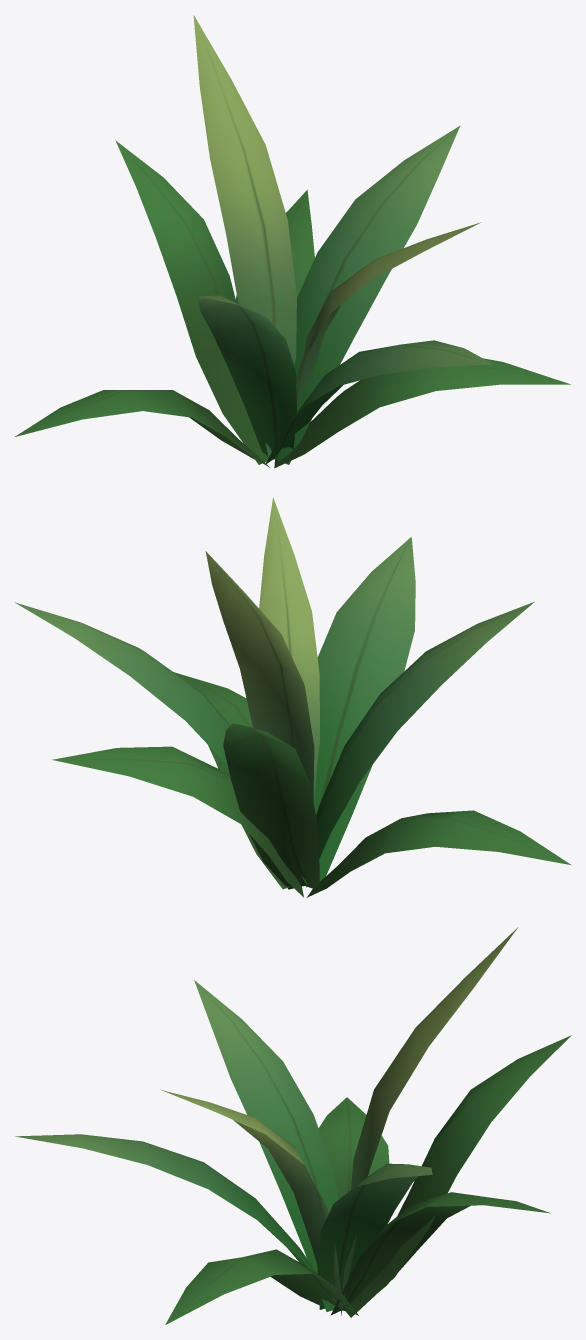
File: Plant_002_Mesh_001.fbx
3 views of the same model, one above another, from view 1: azimuth 30°, elevation 25°; view 2: azimuth 150°, elevation 25°; view 3: azimuth 270°, elevation 25° (orthographic). The views are drawn at different scales.
Parts seen in each view (by area): view 1: Plant_002_Mesh_001; view 2: Plant_002_Mesh_001; view 3: Plant_002_Mesh_001.
Boxes of the visible parts, x1,y1,x2,y2 form: Plant_002_Mesh_001: [15, 15, 570, 468]; Plant_002_Mesh_001: [15, 497, 571, 897]; Plant_002_Mesh_001: [15, 927, 571, 1324].
Bounding box in the file's own units: 375 × 283 × 365.
